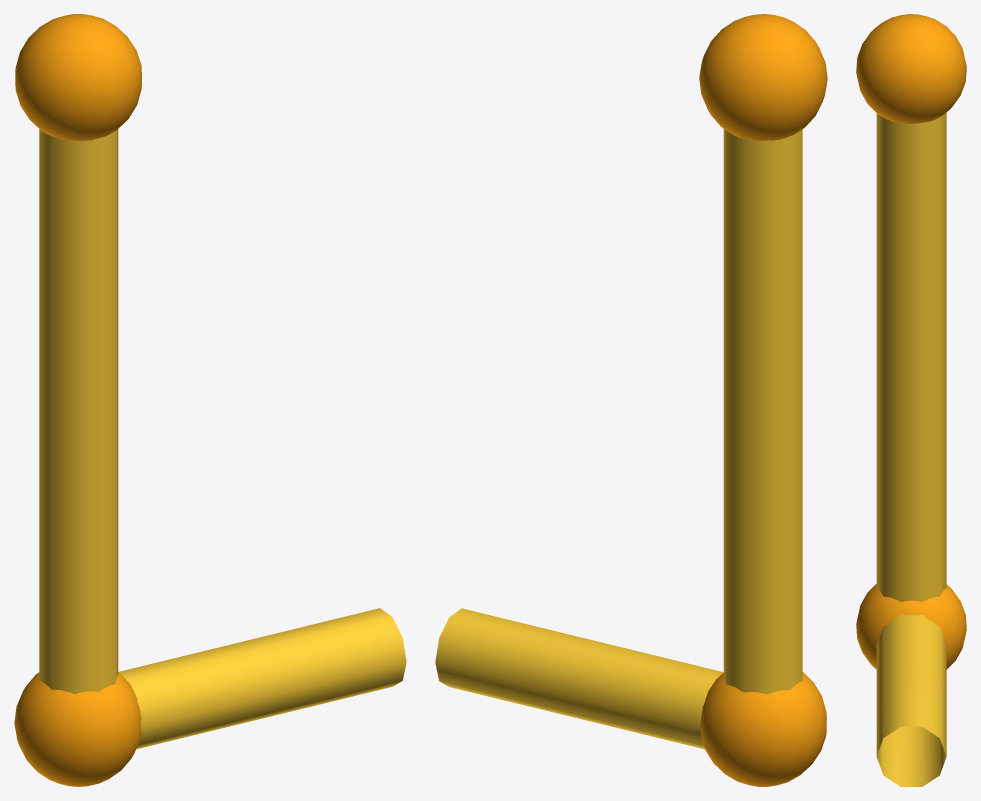
The model's file is platform03.FBX.
3 views of the same model, side by side, from view 1: azimuth 30°, elevation 25°; view 2: azimuth 150°, elevation 25°; view 3: azimuth 270°, elevation 25° (orthographic). The views are drawn at different scales.
Visible parts, largest first — view 1: platform03; view 2: platform03; view 3: platform03.
Part boxes in pixels (x1,y1,x2,y2): platform03: (14,14,406,786); platform03: (435,14,827,786); platform03: (856,14,966,786).
Size of the model in its own units: 4.51 by 9.03 by 1.38.
1 material, 1 textured.
